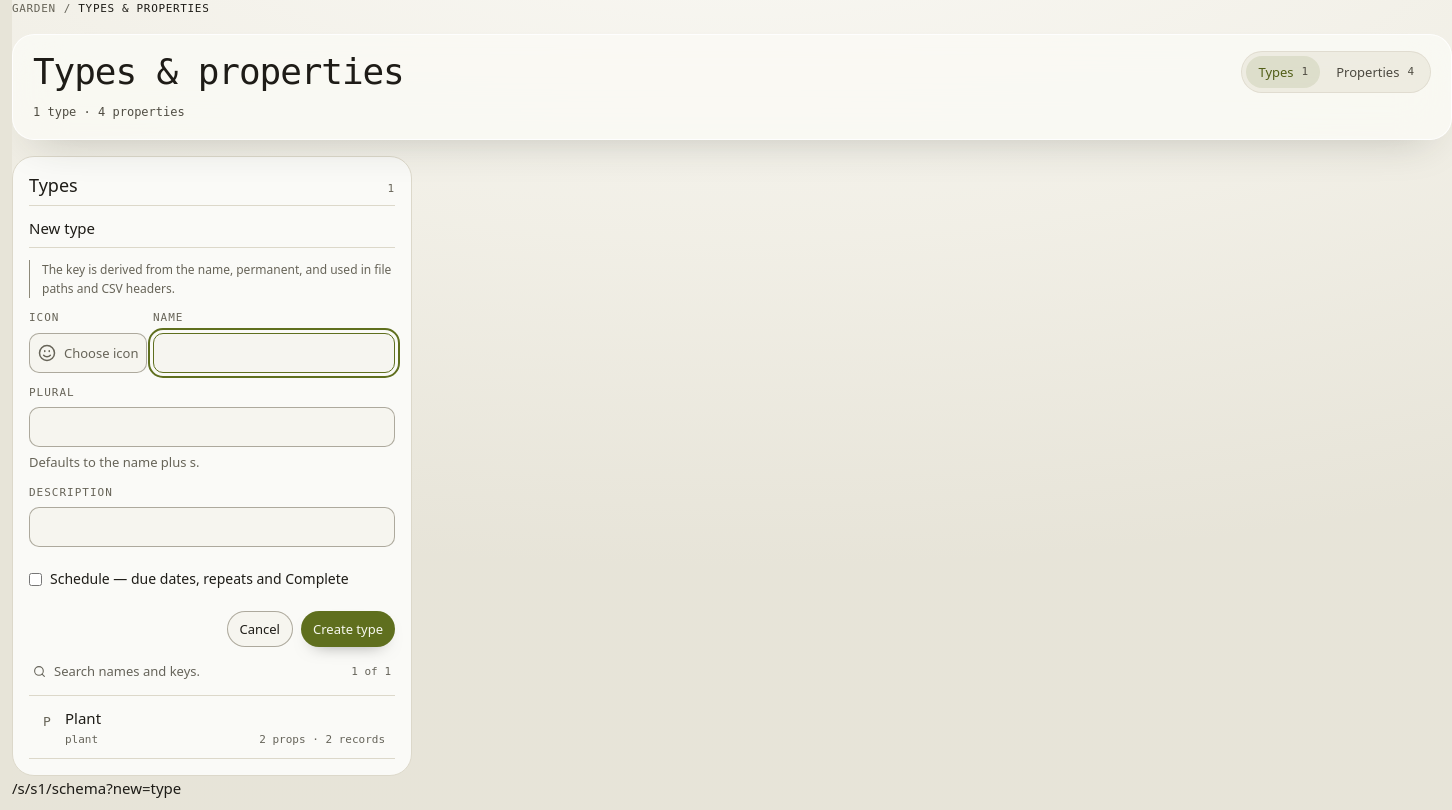
SchemaPage › clears the create form when a row is selected
This screenshot has width=1452, height=810.
Click the button "P Plant plant 2 props · 2 records": (83, 718) [29,696,395,758]
(page scrolled)
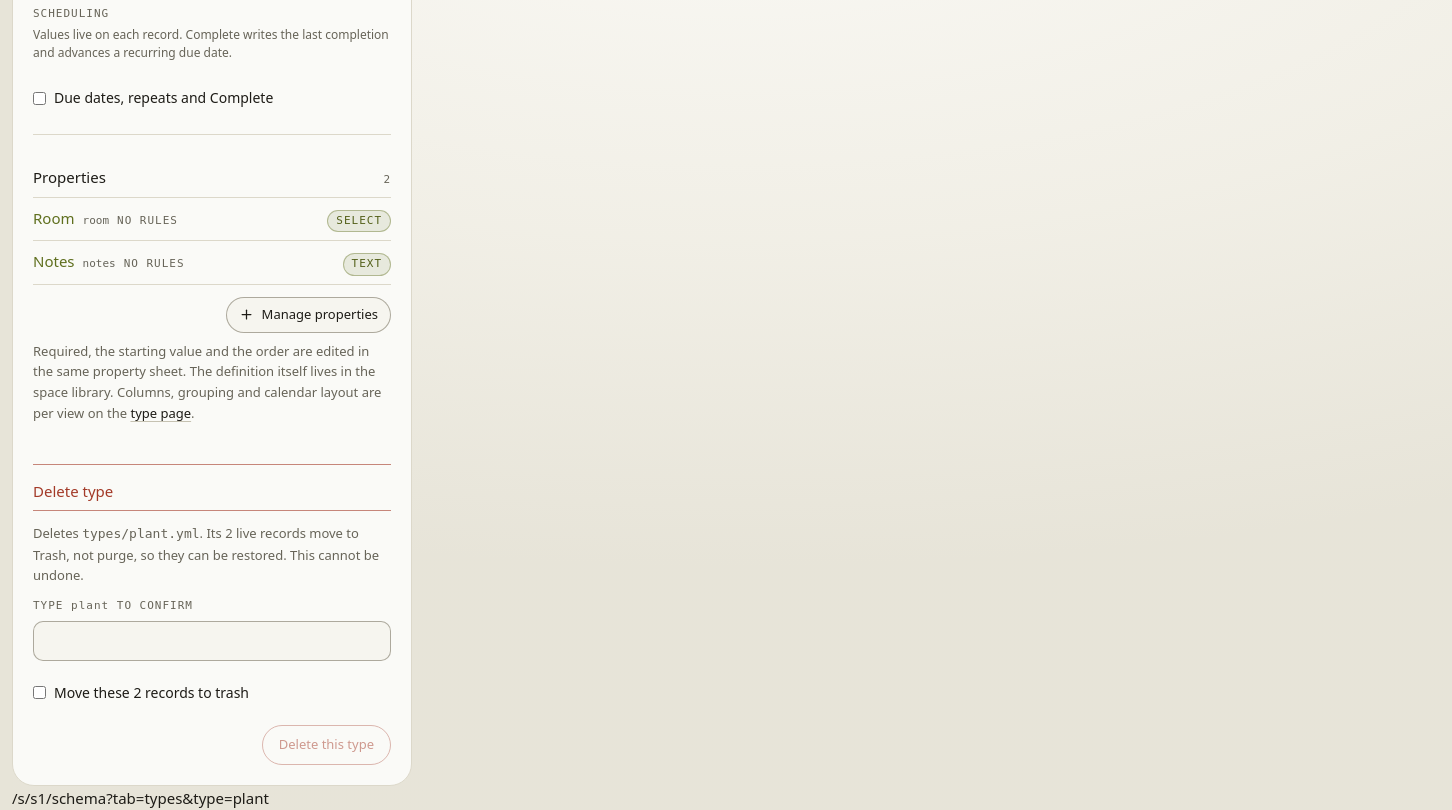
Check: the heading "New type" is not shown
Check: the text with test id "location" reads "/s/s1/schema?tab=types&type=plant", box [12,788,269,808]
Check: the text with test id "location" no longer shows "new=type", box [12,788,269,808]
